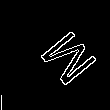M_SW: (23, 21, 92, 89)
